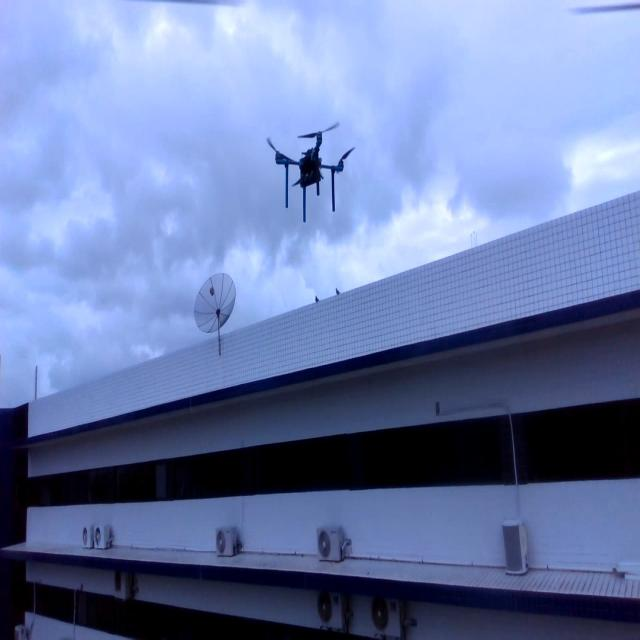-uav-: (257, 99, 371, 231)
